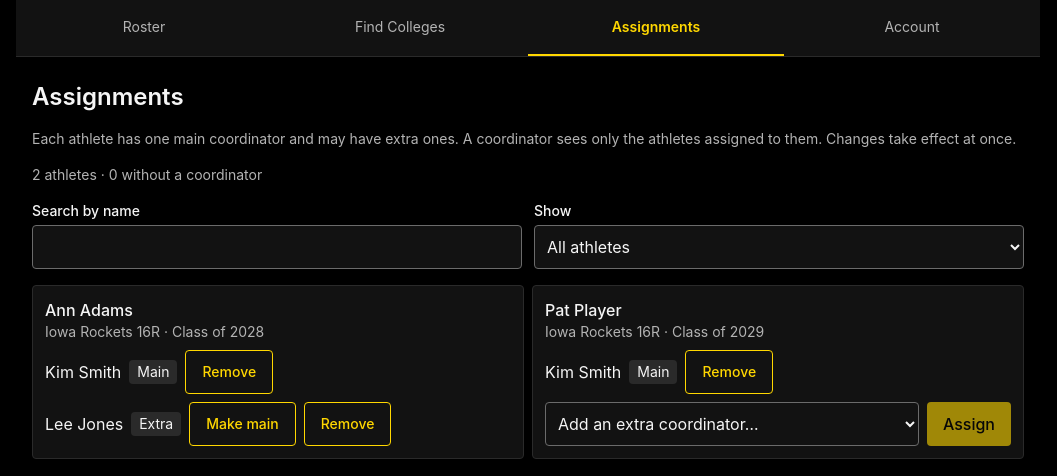
it: Assignments (administrator) › says so when every athlete has a coordinator
The image size is (1057, 476).
Expected: the list named "Athletes" is shown, [32, 285, 1024, 459]
Select "Only athletes without a coordinator" in the dropdown labelled "Show" at (779, 247), box [534, 225, 1024, 269]
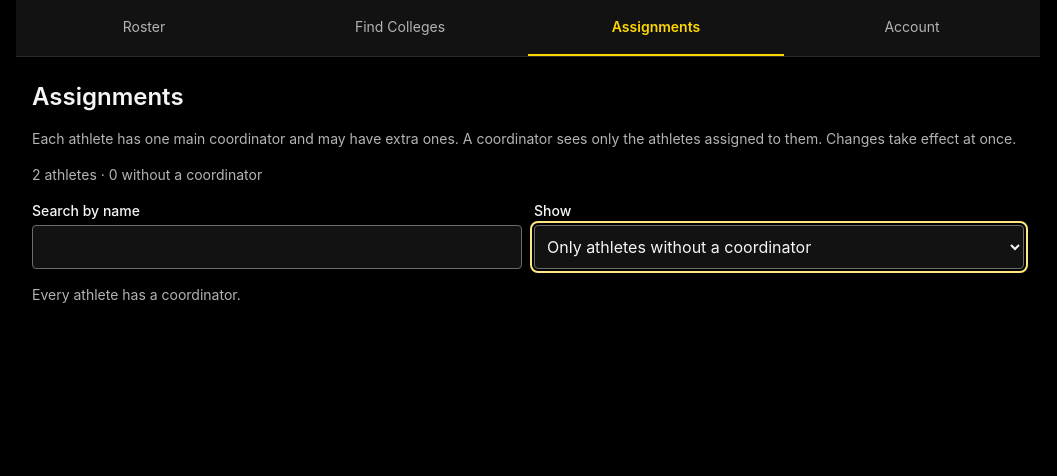
Result: the text "Every athlete has a coordinator." is shown at [32, 286, 241, 303]
